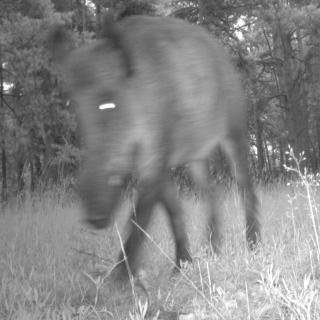Pig: (44, 6, 268, 267)
